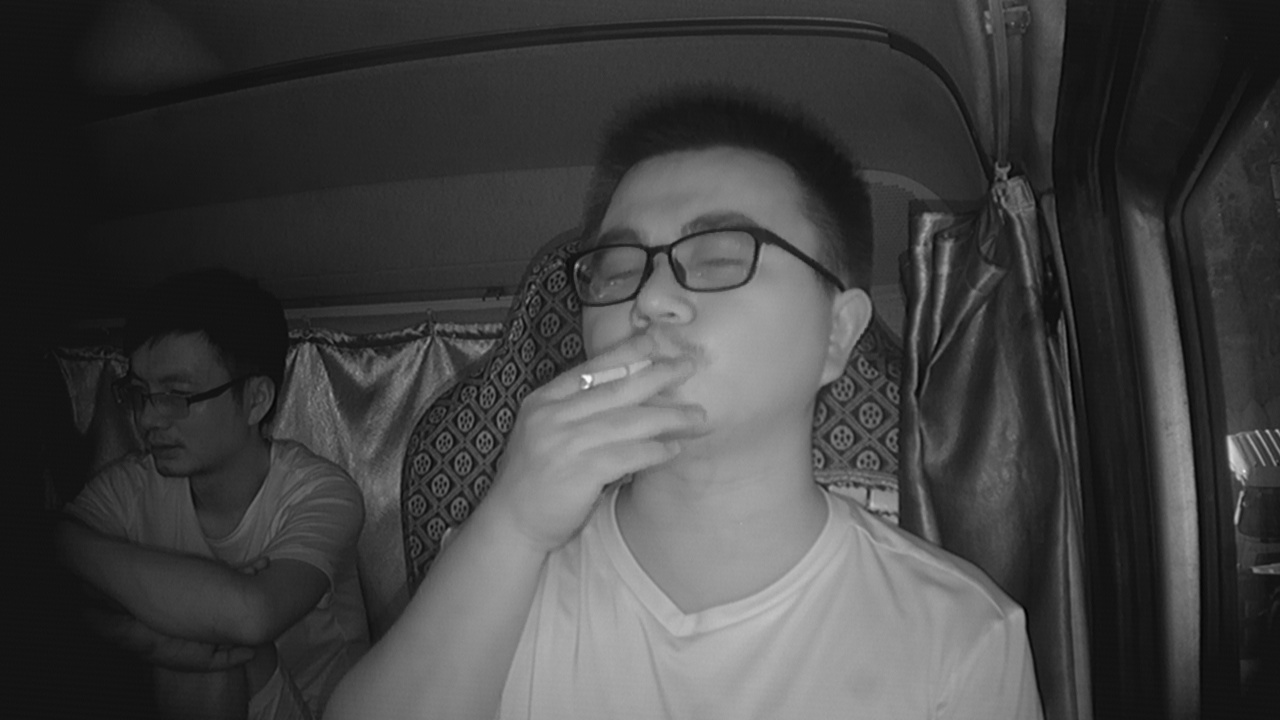hand: (532, 328, 695, 510)
